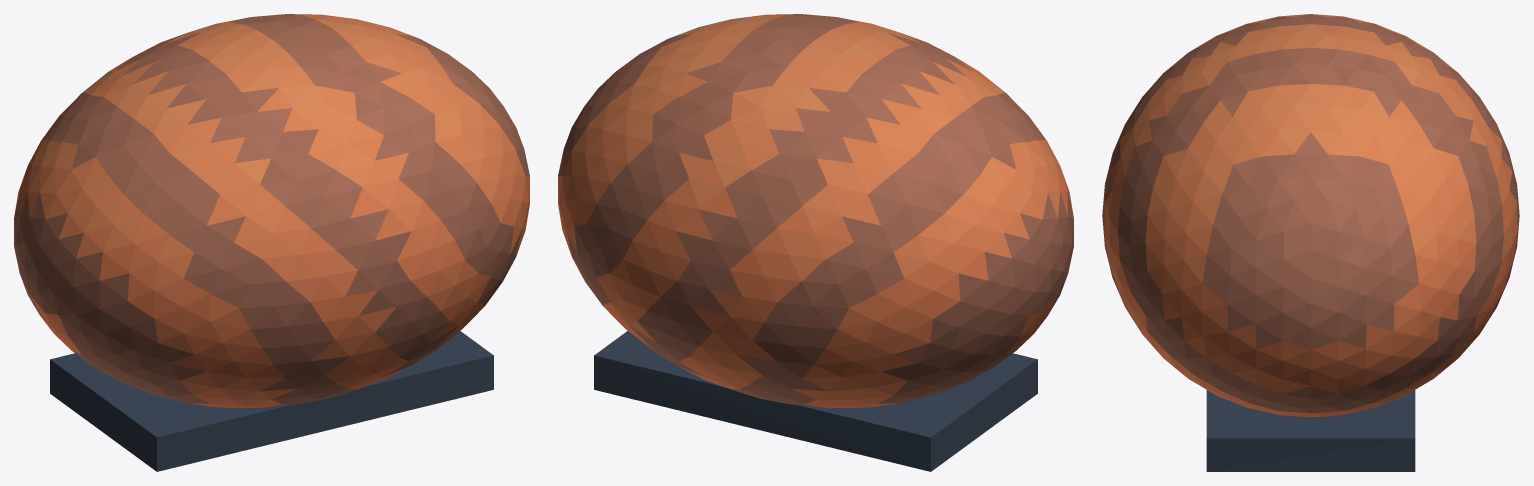
The model's file is bd_z2_brain_coral.glb.
3 renders of one model, left to right at view 1: azimuth 30°, elevation 25°; view 2: azimuth 150°, elevation 25°; view 3: azimuth 270°, elevation 25°, orthographic. The views are drawn at different scales.
Parts seen in each view (by area): view 1: bd_z2_brain_coral; view 2: bd_z2_brain_coral; view 3: bd_z2_brain_coral.
Part boxes in pixels (<box>): bd_z2_brain_coral: <box>14,14,529,471</box>; bd_z2_brain_coral: <box>558,14,1073,471</box>; bd_z2_brain_coral: <box>1102,14,1519,471</box>.
Size of the model in its own units: 5.6 by 4 by 4.4.
